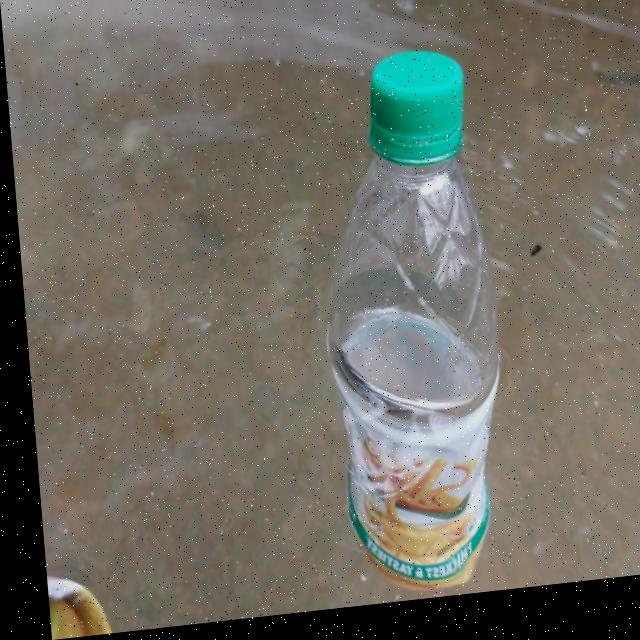leaf: (35, 546, 103, 639)
waterbottle: (294, 67, 531, 612)
